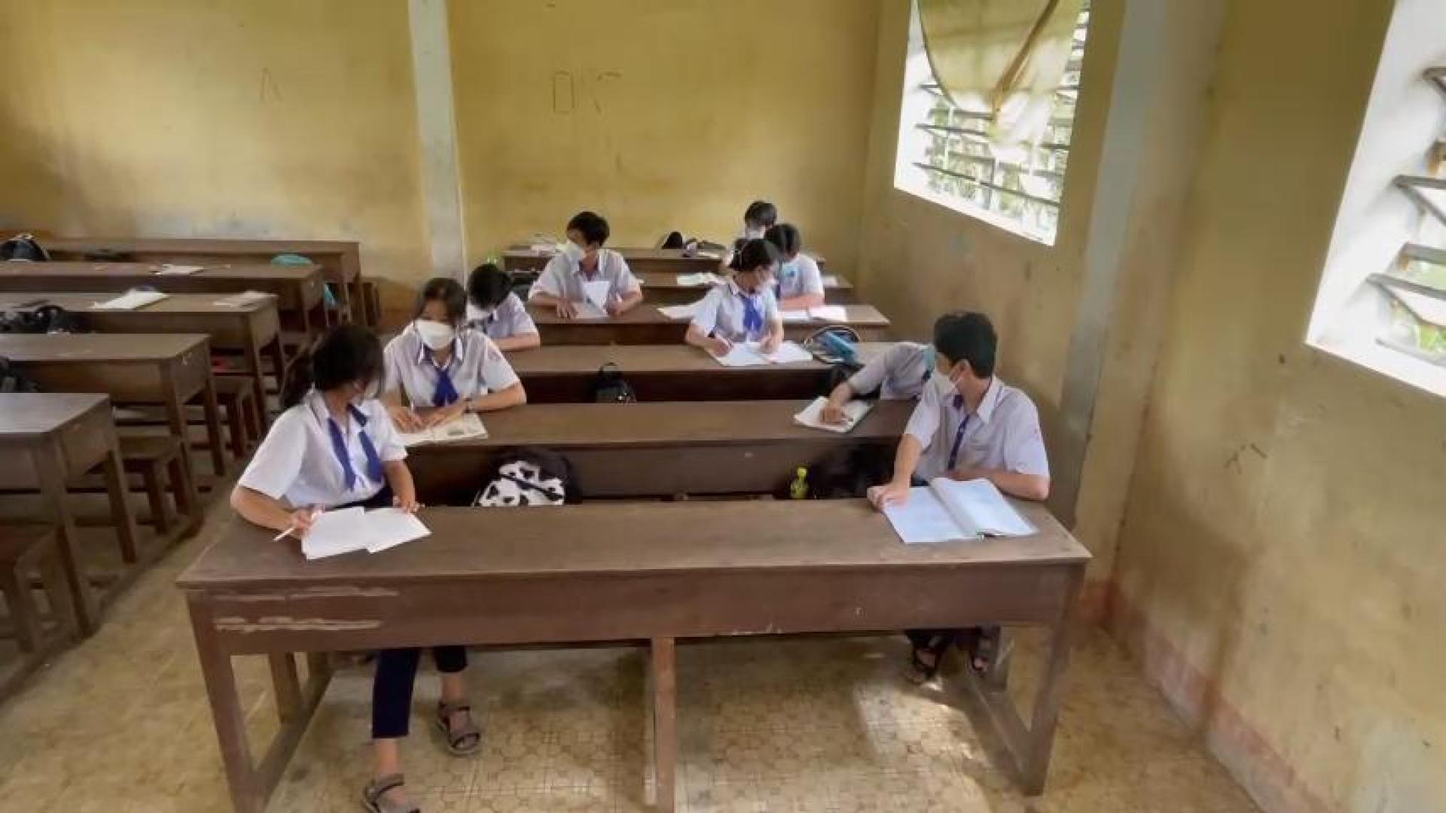Look Around: (284, 310, 391, 413), (909, 303, 1014, 406), (537, 200, 628, 276), (698, 230, 789, 306)
